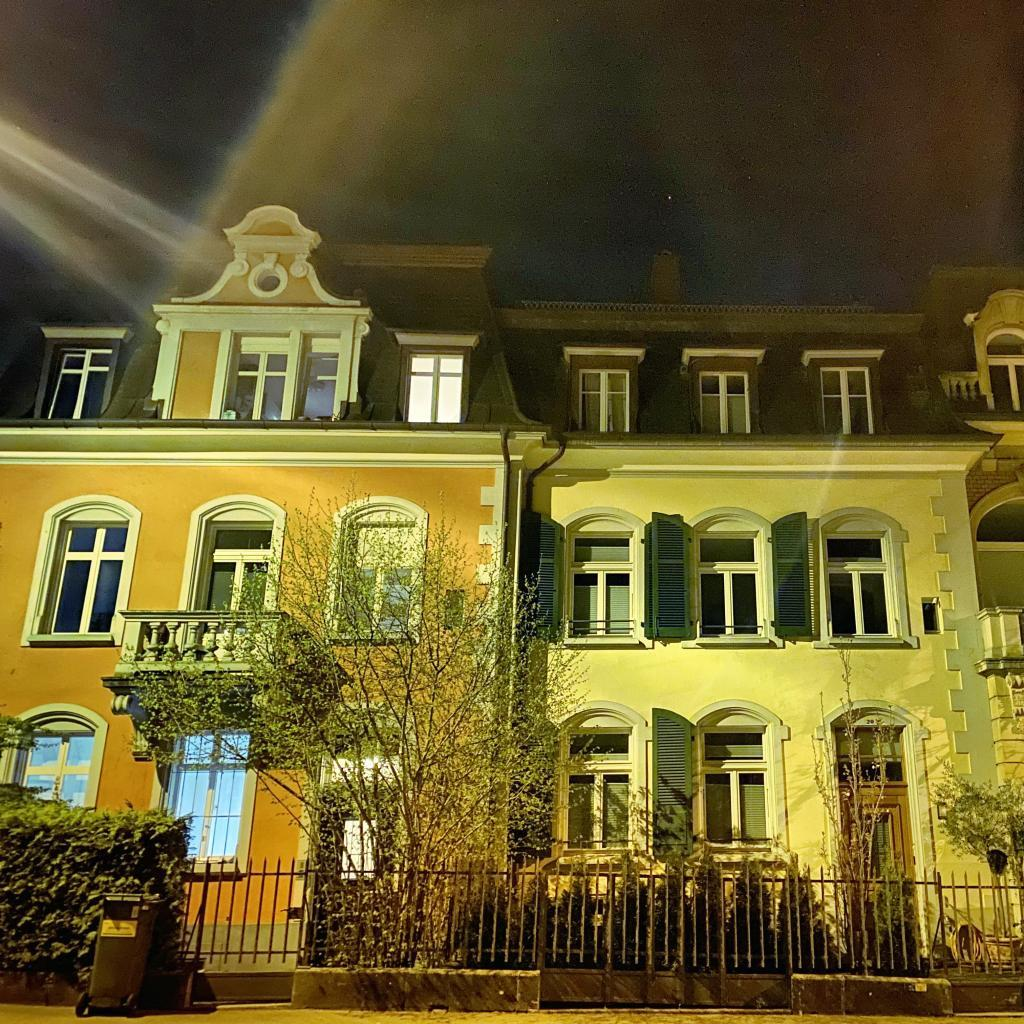facade: (0, 205, 1024, 967)
fence: (161, 855, 1024, 1007)
non-building-infrastructure: (74, 892, 170, 1019)
street: (0, 972, 1024, 1024)
vegetation: (0, 463, 923, 973), (923, 751, 1024, 936)
window: (323, 729, 403, 869), (167, 732, 251, 856), (228, 333, 340, 420), (50, 527, 128, 633), (340, 526, 415, 632), (567, 733, 629, 850), (704, 732, 767, 843), (827, 538, 888, 636), (700, 537, 757, 635), (573, 537, 630, 634), (976, 497, 1024, 607), (206, 531, 271, 611), (21, 734, 94, 805), (45, 347, 112, 418), (405, 352, 464, 422), (835, 728, 905, 783), (819, 367, 875, 435), (579, 369, 630, 433), (699, 371, 751, 433), (987, 333, 1024, 410), (260, 275, 280, 292)
